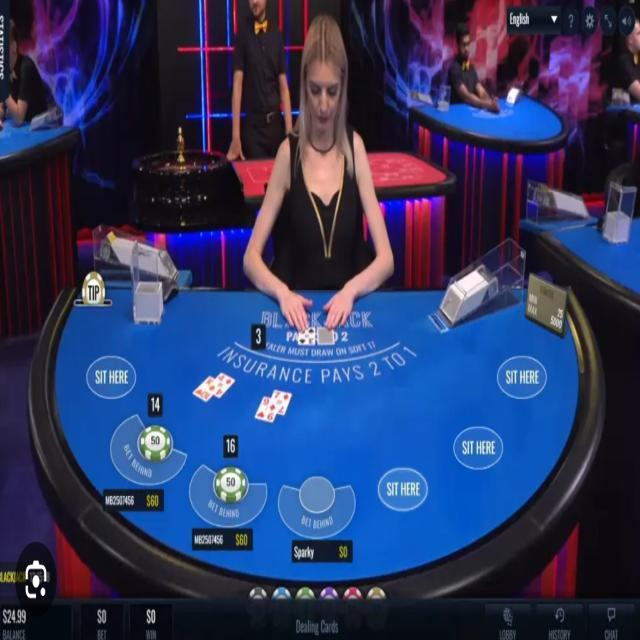Card-3: (298, 328, 315, 345)
Card-4: (208, 372, 235, 399)
Card-7: (270, 389, 292, 416)
Card-9: (254, 396, 276, 423)
Card-K: (193, 375, 214, 402)
